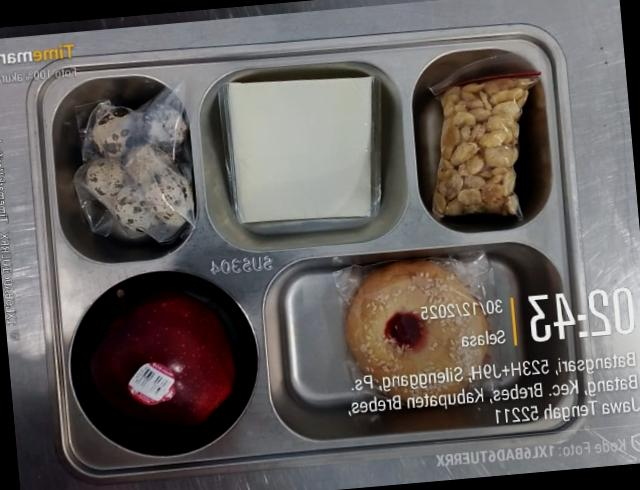buah: (89, 290, 236, 427)
kacang: (432, 77, 535, 216)
keju: (220, 77, 380, 232)
roti: (344, 261, 487, 382)
telur: (72, 89, 193, 243)
